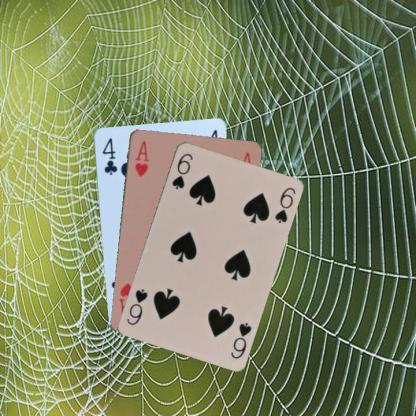4c: (100, 135, 118, 176)
6s: (169, 150, 194, 191), (228, 319, 253, 360)
Ah: (132, 137, 150, 178)
